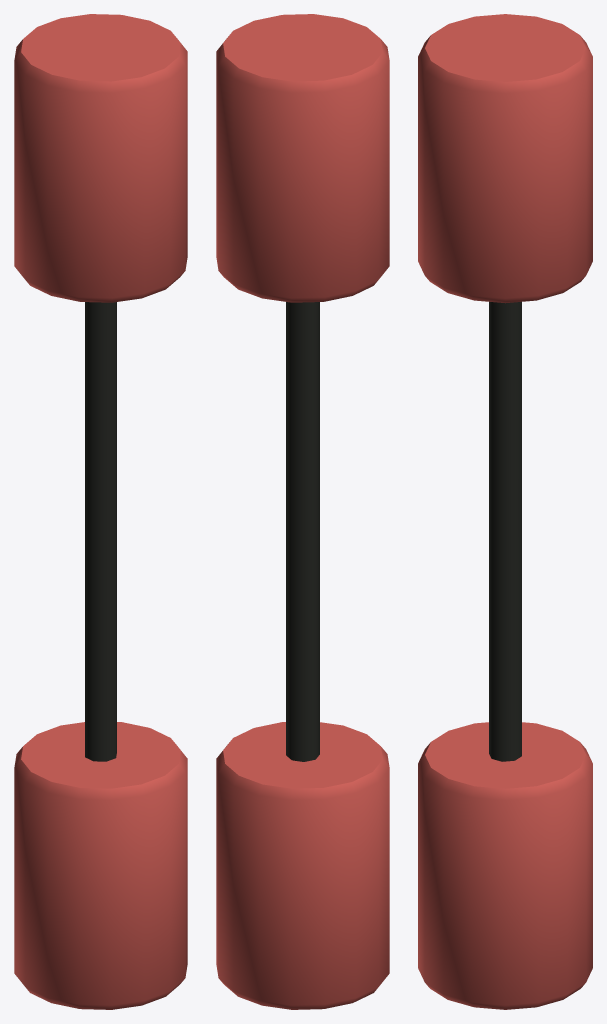
File: pumpuli.fbx
3 views of the same model, side by side, from view 1: azimuth 30°, elevation 25°; view 2: azimuth 150°, elevation 25°; view 3: azimuth 270°, elevation 25° (orthographic).
Parts seen in each view (by area): view 1: Cylinder, Cylinder.001, Cylinder.002; view 2: Cylinder, Cylinder.001, Cylinder.002; view 3: Cylinder, Cylinder.001, Cylinder.002.
Boxes of the visible parts, bbox=[...] form: Cylinder: bbox=[14, 14, 187, 302]; Cylinder.001: bbox=[14, 722, 187, 1009]; Cylinder.002: bbox=[85, 302, 116, 761]; Cylinder: bbox=[216, 14, 389, 302]; Cylinder.001: bbox=[216, 722, 389, 1009]; Cylinder.002: bbox=[286, 302, 319, 761]; Cylinder: bbox=[418, 14, 592, 303]; Cylinder.001: bbox=[418, 722, 592, 1009]; Cylinder.002: bbox=[489, 302, 521, 761].
Size of the model in its own units: 1.03 by 6 by 1.03.
